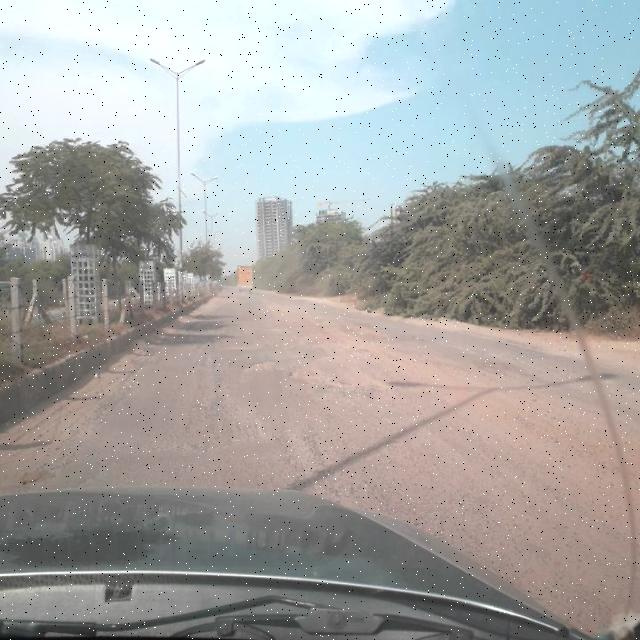D40: (182, 382, 260, 446), (288, 360, 379, 390), (313, 316, 403, 344), (233, 350, 282, 378), (459, 354, 508, 381)
